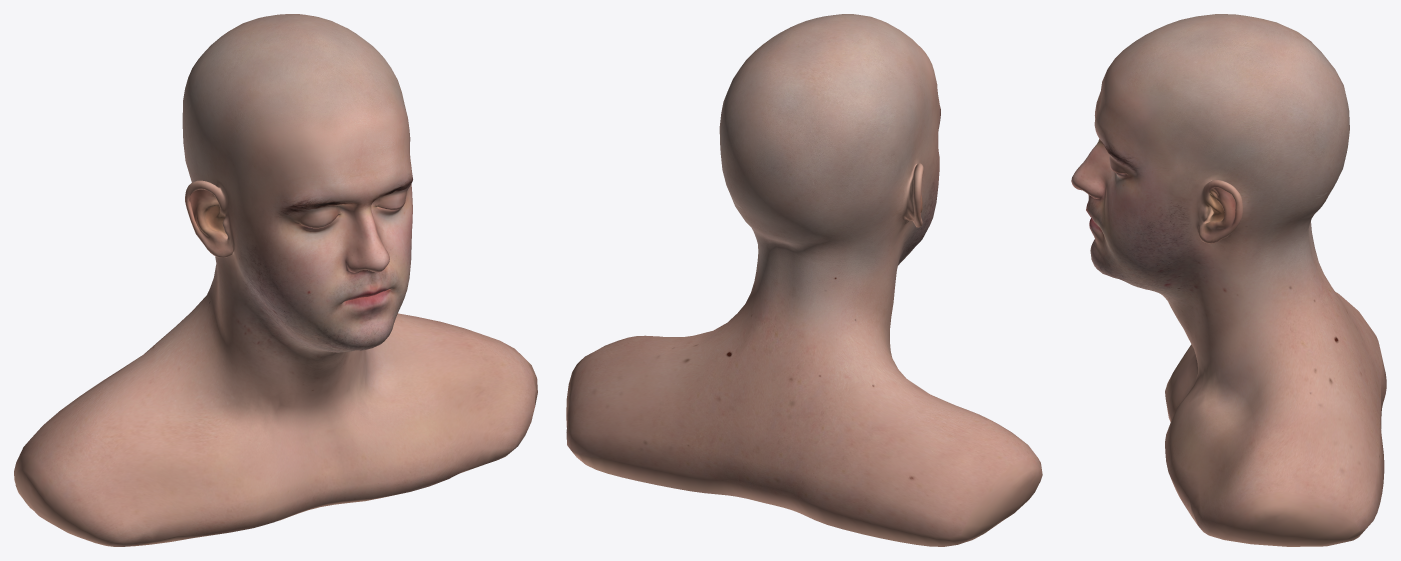
File: head.obj
3 views of the same model, side by side, from view 1: azimuth 30°, elevation 25°; view 2: azimuth 150°, elevation 25°; view 3: azimuth 270°, elevation 25° (orthographic). The views are drawn at different scales.
Visible parts, largest first — view 1: head; view 2: head; view 3: head.
Boxes of the visible parts, x1=… form: head: x1=14, y1=14, x2=537, y2=546; head: x1=566, y1=14, x2=1042, y2=546; head: x1=1071, y1=14, x2=1386, y2=546.
Bounding box in the file's own units: 0.4533 × 0.4211 × 0.2746.
1 material, 1 textured.
